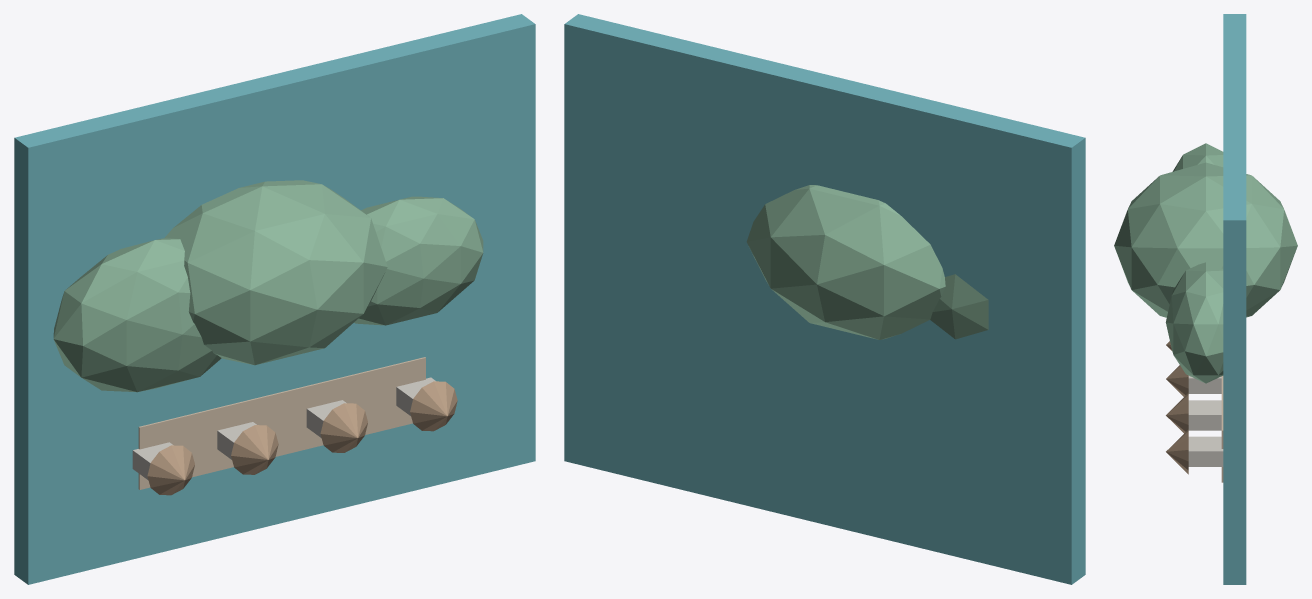
The model's file is lanyu_bay.glb.
The picture shows the model from 3 angles, left to right: view 1: azimuth 30°, elevation 25°; view 2: azimuth 150°, elevation 25°; view 3: azimuth 270°, elevation 25°; orthographic projection. The views are drawn at different scales.
Parts seen in each view (by area): view 1: g0, g2, g1, g4, g3, g6, g10, g12, g8; view 2: g0, g2, g1; view 3: g2, g0, g3, g11, g9, g1, g12, g10, g7, g8, g4.
Boxes of the visible parts, x1,y1,x2,y2 form: g0: (14,14,535,584); g2: (165,180,387,365); g1: (53,237,221,392); g4: (138,357,425,489); g3: (354,196,483,325); g6: (147,445,194,495); g10: (320,403,367,452); g12: (410,381,457,431); g8: (231,425,278,474); g0: (564,14,1085,584); g2: (746,185,945,339); g1: (930,274,988,339); g2: (1114,162,1297,317); g0: (1223,14,1246,584); g3: (1165,262,1223,383); g11: (1188,436,1223,466); g9: (1188,400,1221,430); g1: (1172,143,1223,171); g12: (1166,429,1188,474); g10: (1166,393,1188,433); g7: (1188,376,1221,393); g8: (1166,365,1188,396); g4: (1221,376,1223,482).
Bounding box in the file's own units: 85 × 70 × 32.
